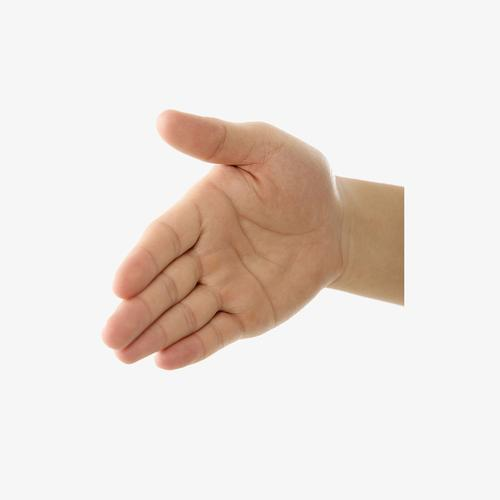no-phone: (97, 106, 342, 375)
